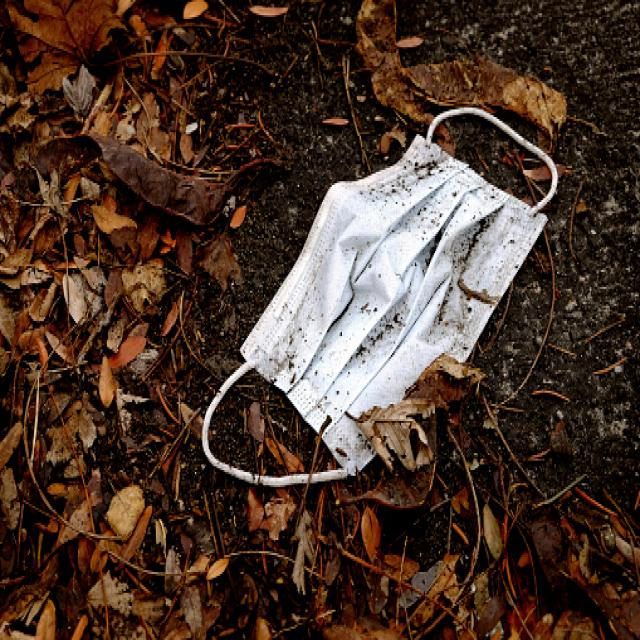non-organic waste: (198, 104, 560, 485)
